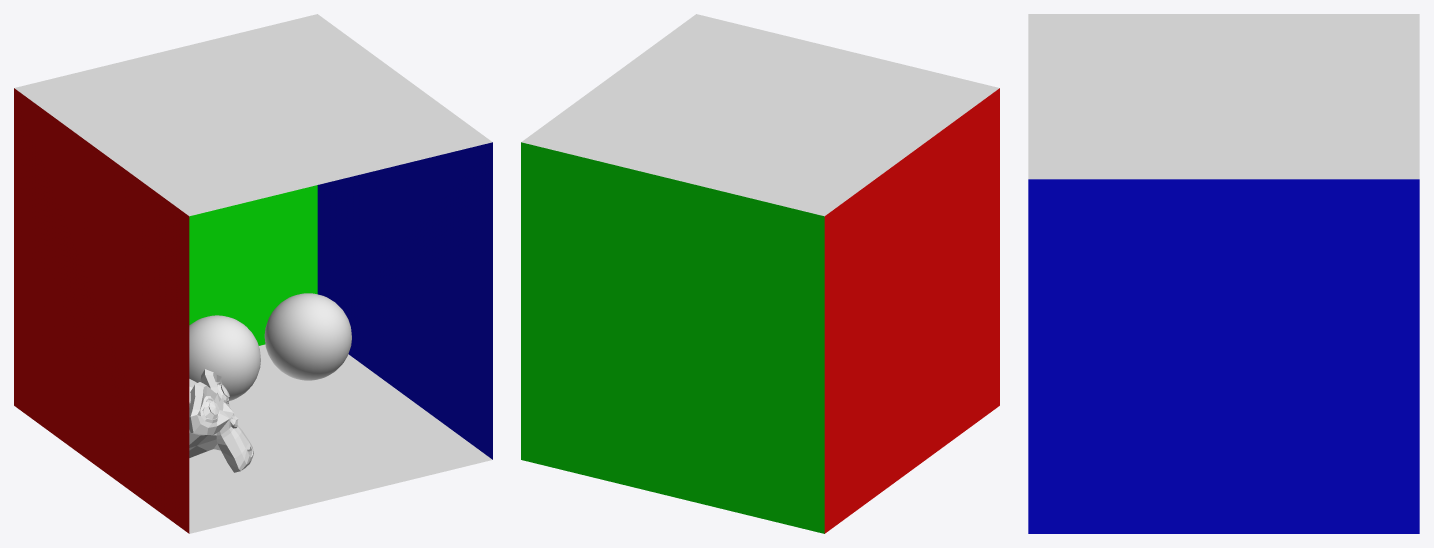
3 views of the same model, side by side, from view 1: azimuth 30°, elevation 25°; view 2: azimuth 150°, elevation 25°; view 3: azimuth 270°, elevation 25° (orthographic). The views are drawn at different scales.
Parts seen in each view (by area): view 1: Left_wall, Top, Right_wall, Floor, Back_wall, Shiny Sphere, Sphere, Suzanne; view 2: Back_wall, Left_wall, Top; view 3: Right_wall, Top.
Part boxes in pixels (x1=…): Left_wall: x1=14, y1=88, x2=189, y2=533; Top: x1=14, y1=14, x2=492, y2=216; Right_wall: x1=317, y1=142, x2=492, y2=459; Floor: x1=189, y1=344, x2=492, y2=533; Back_wall: x1=189, y1=185, x2=317, y2=345; Shiny Sphere: x1=264, y1=293, x2=351, y2=380; Sphere: x1=189, y1=315, x2=260, y2=400; Suzanne: x1=189, y1=369, x2=253, y2=472; Back_wall: x1=521, y1=142, x2=824, y2=533; Left_wall: x1=824, y1=88, x2=999, y2=533; Top: x1=521, y1=14, x2=999, y2=216; Right_wall: x1=1028, y1=179, x2=1419, y2=533; Top: x1=1028, y1=14, x2=1419, y2=179.
Bounding box in the file's own units: 4 × 4 × 4.
